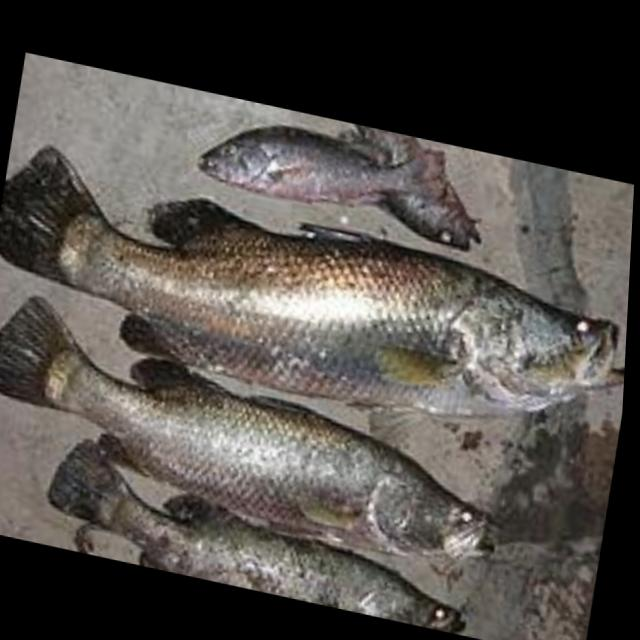Seabass: (0, 132, 633, 490), (0, 284, 523, 579), (34, 432, 487, 637)
